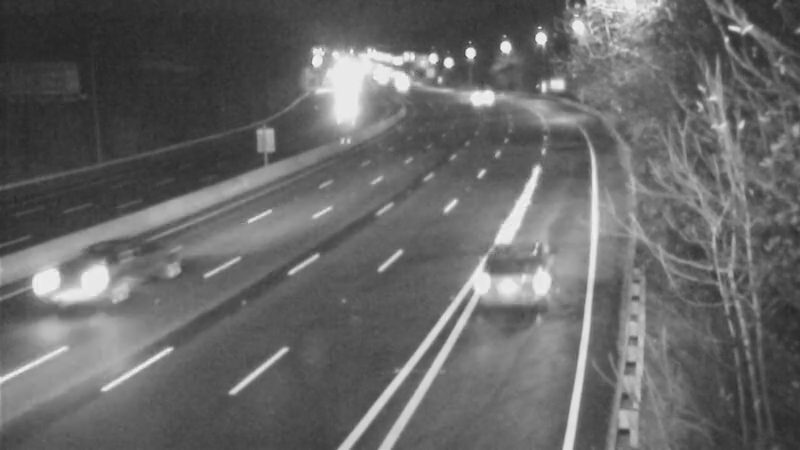vehicle: (474, 254, 554, 334), (34, 239, 114, 319), (449, 75, 499, 125), (319, 77, 369, 127)
